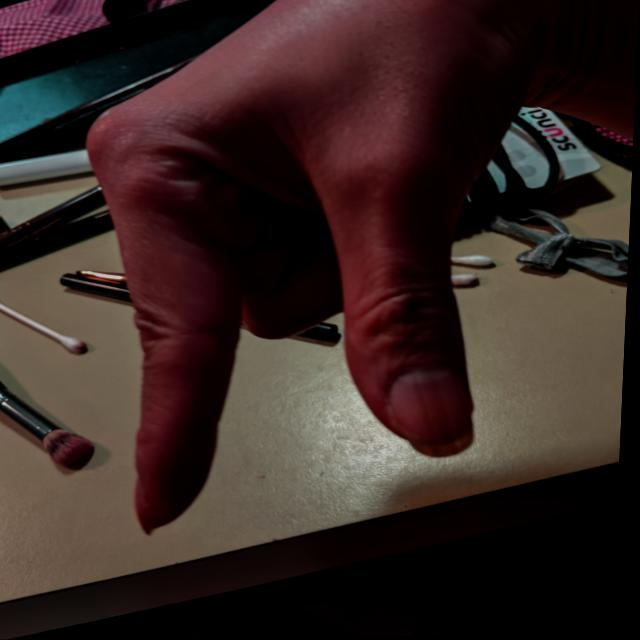Q: (59, 0, 574, 546)
